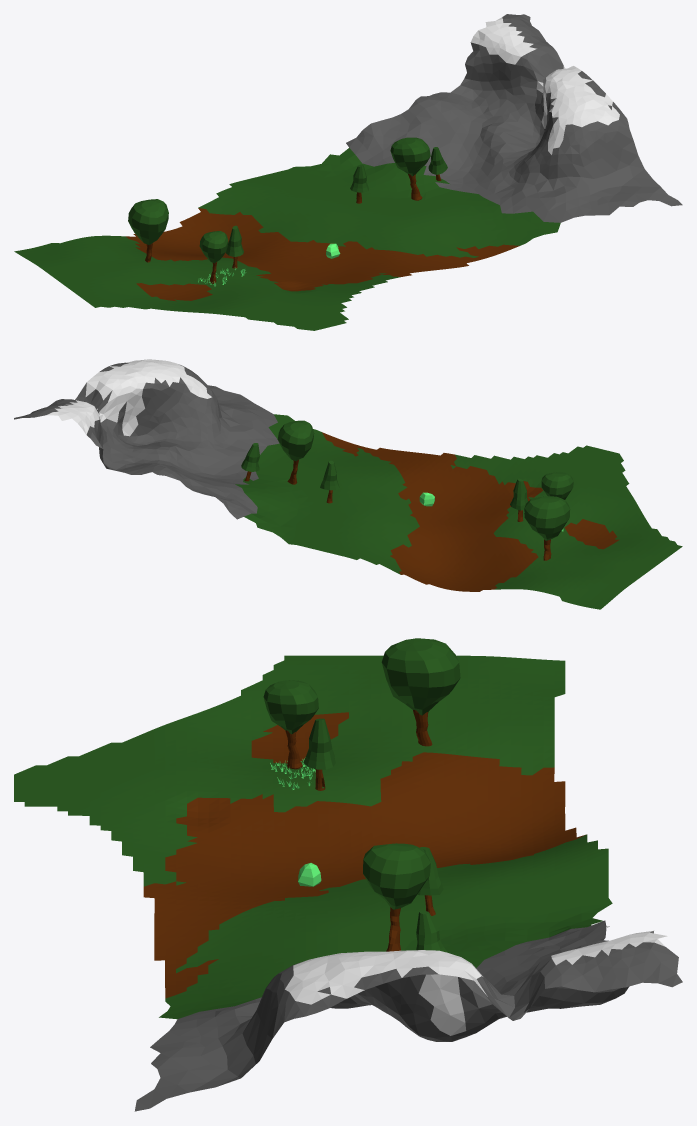
The model's file is env.fbx.
The picture shows the model from 3 angles, top to bottom: view 1: azimuth 30°, elevation 25°; view 2: azimuth 150°, elevation 25°; view 3: azimuth 270°, elevation 25°; orthographic projection. The views are drawn at different scales.
Parts seen in each view (by area): view 1: environment; view 2: environment; view 3: environment.
Part boxes in pixels (bbox=[...]): environment: bbox=[14, 14, 682, 330]; environment: bbox=[14, 359, 682, 609]; environment: bbox=[14, 638, 682, 1111].
Size of the model in its own units: 7502 by 1437 by 4594.
